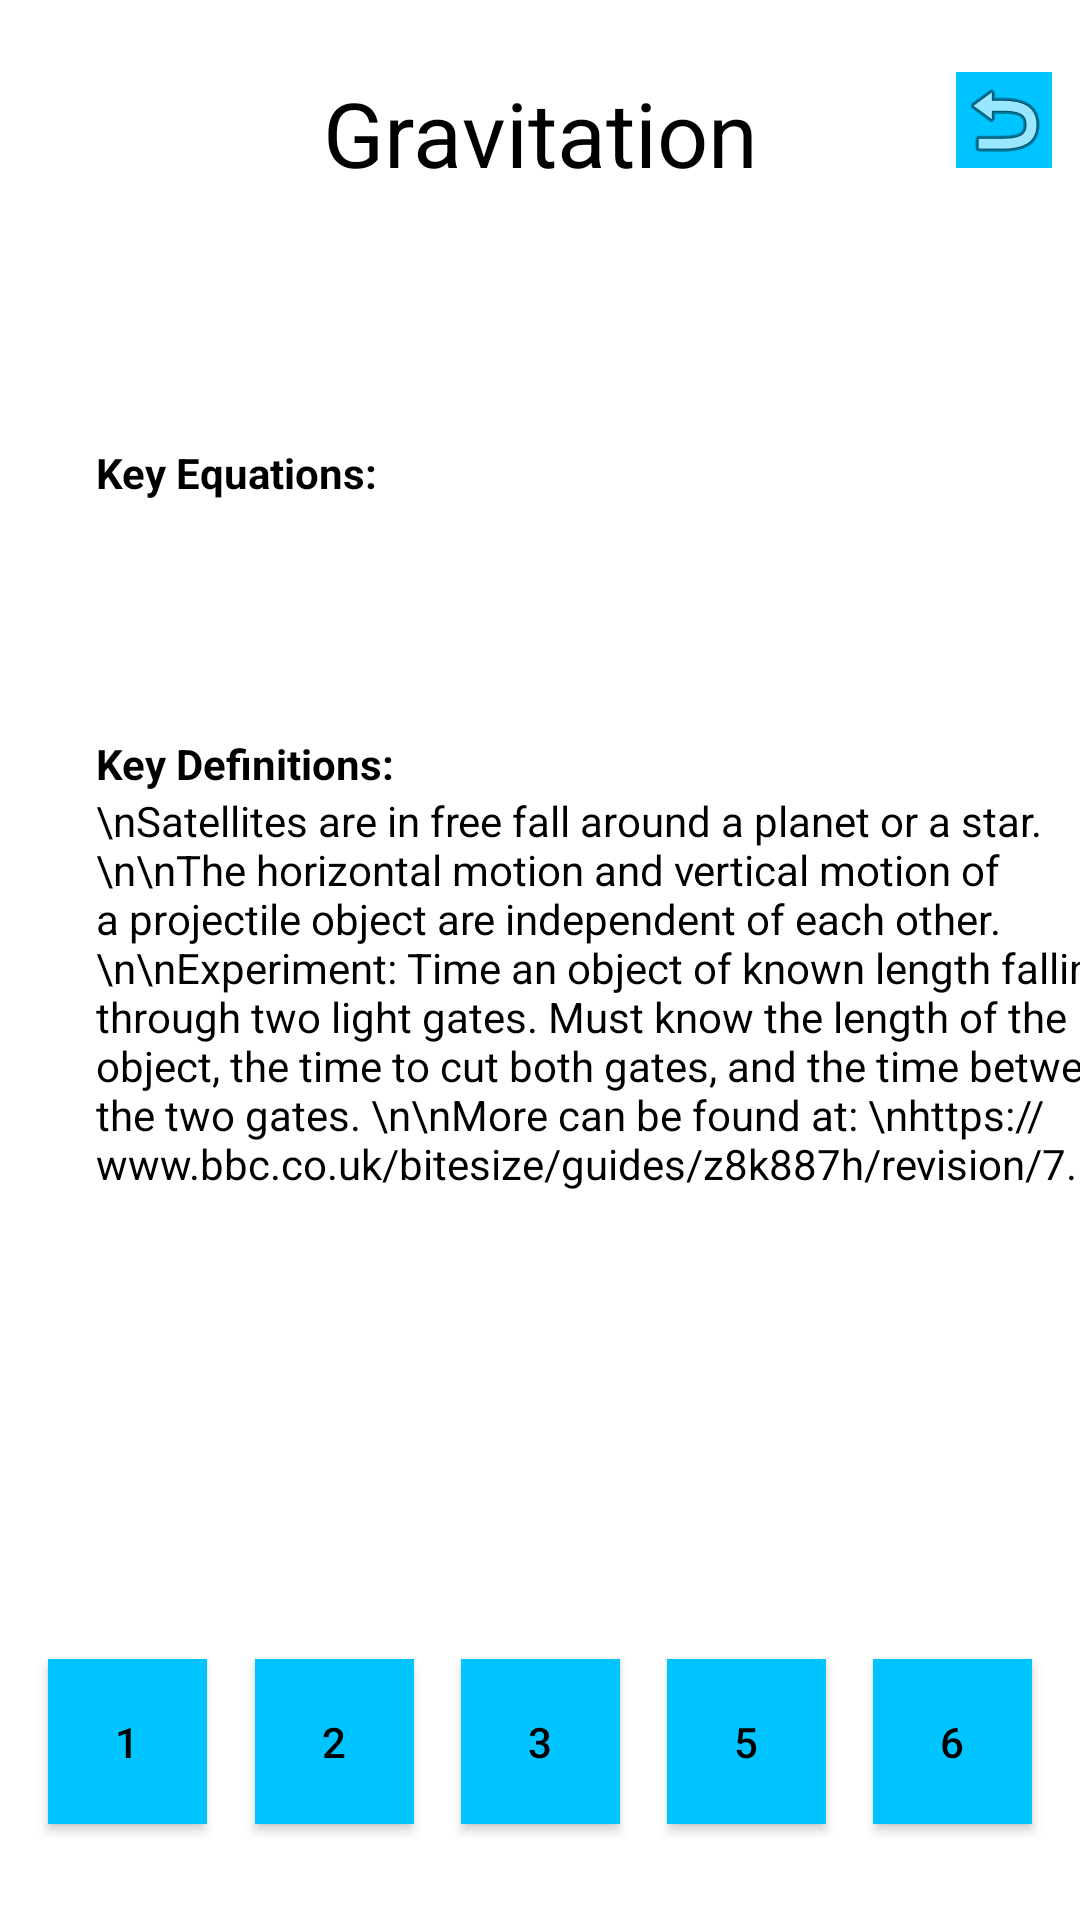

Screen size 1080px x 1920px. Icon name, then its box in pixels as region(x1, y1, x2, y2):
revert: region(956, 72, 1052, 168)
